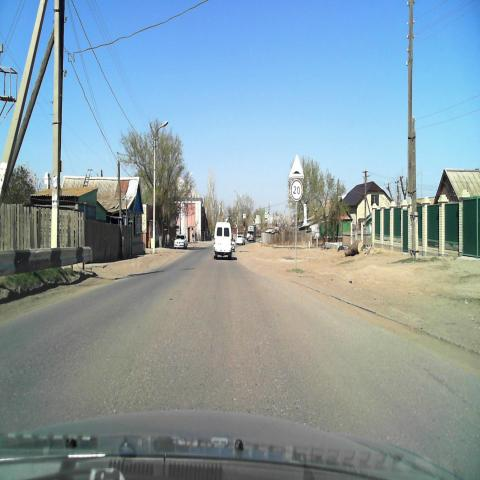1_17: (288, 153, 304, 179)
3_24: (290, 178, 304, 202)
